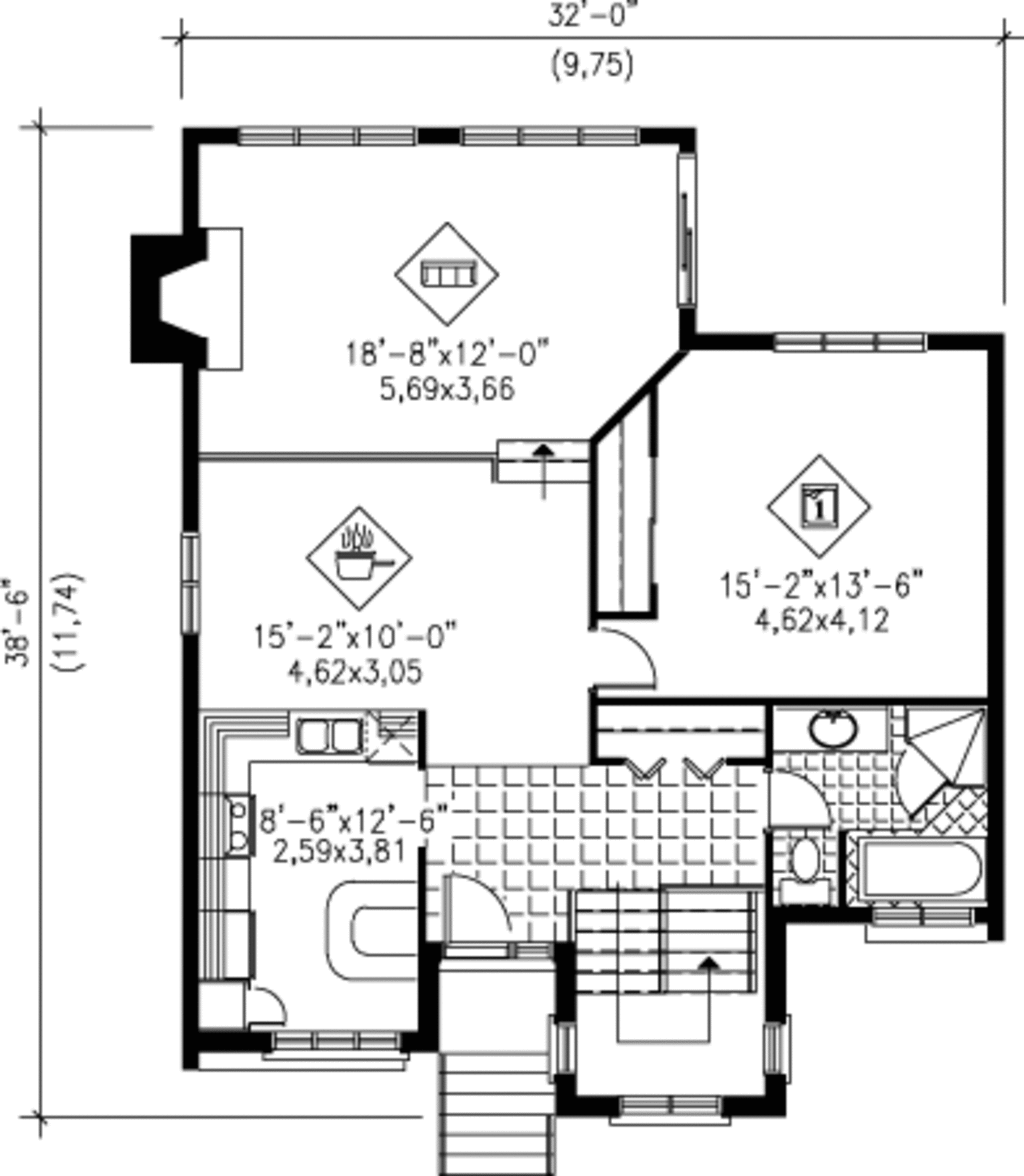door: (427, 867, 531, 949), (749, 756, 838, 831), (573, 620, 658, 694), (233, 976, 291, 1027)
large_sink: (771, 838, 835, 911)
small_sink: (791, 703, 873, 754)
stairs: (555, 867, 762, 1080), (424, 1029, 544, 1176), (487, 436, 582, 507)
tub: (849, 836, 997, 900)
twin_sink: (289, 709, 387, 856)
window: (764, 318, 933, 363), (226, 116, 424, 152), (446, 123, 646, 158), (260, 1032, 409, 1071), (609, 1092, 729, 1136), (162, 534, 204, 640), (869, 905, 987, 936), (545, 1018, 600, 1073), (757, 1018, 798, 1083)
